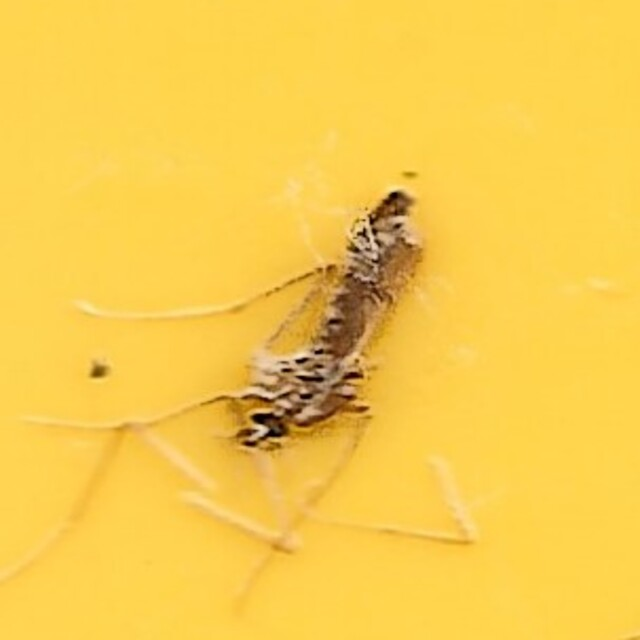Nematocera: (211, 180, 429, 460)
